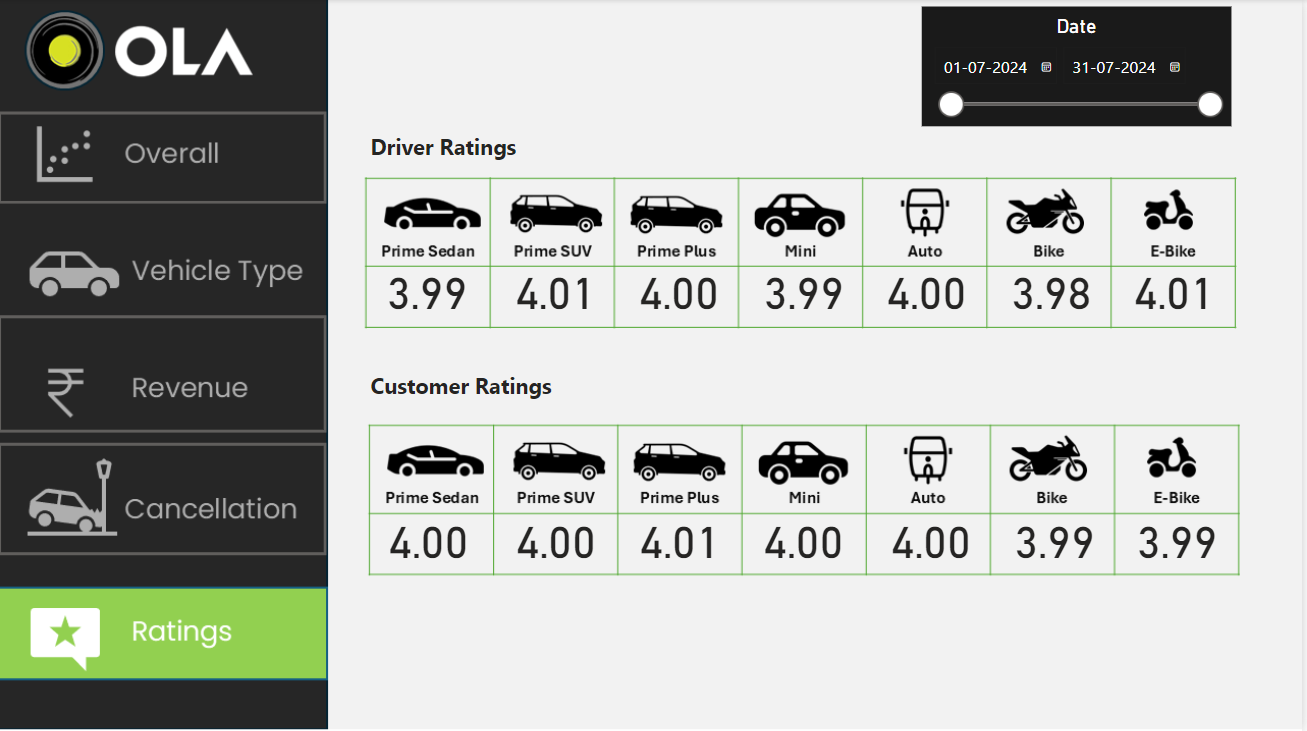

This screenshot's page, from the dashboard's own definition file:
{"tool":"powerbi","page":{"name":"Ratings","canvas":[1280,720],"ordinal":4},"visuals":[{"type":"actionButton","box":[0,213.5,322.7,115.3],"z":0},{"type":"actionButton","box":[0,310.4,322.7,115.3],"z":1000},{"type":"actionButton","box":[0,435.6,322.7,110.4],"z":2000},{"type":"actionButton","box":[0,110.4,322.7,90.8],"z":3000},{"type":"card","fields":{"Values":["Avg(July.Driver_Ratings)"]},"box":[361.2,262.5,121.2,57.5],"z":3001},{"type":"card","fields":{"Values":["Avg(July.Driver_Ratings)"]},"box":[491.2,262.5,112.5,57.5],"z":3002},{"type":"card","fields":{"Values":["Avg(July.Driver_Ratings)"]},"box":[612.5,262.5,112.5,57.5],"z":3003},{"type":"card","fields":{"Values":["Avg(July.Driver_Ratings)"]},"box":[736.2,262.5,110,57.5],"z":3004},{"type":"card","fields":{"Values":["Avg(July.Driver_Ratings)"]},"box":[855,262.5,112.5,57.5],"z":3005},{"type":"card","fields":{"Values":["Avg(July.Driver_Ratings)"]},"box":[978.8,262.5,110,57.5],"z":3006},{"type":"card","fields":{"Values":["Avg(July.Driver_Ratings)"]},"box":[1100,262.5,110,57.5],"z":3007},{"type":"textbox","box":[361.2,125,163.8,41.2],"z":3008},{"type":"textbox","box":[361.2,360,206.2,41.2],"z":3009},{"type":"card","fields":{"Values":["Avg(July.Customer_Rating)"]},"box":[362.5,506.2,121.2,57.5],"z":3010},{"type":"card","fields":{"Values":["Avg(July.Customer_Rating)"]},"box":[487.5,506.2,121.2,57.5],"z":3011},{"type":"card","fields":{"Values":["Avg(July.Customer_Rating)"]},"box":[608.8,506.2,121.2,57.5],"z":3012},{"type":"card","fields":{"Values":["Avg(July.Customer_Rating)"]},"box":[730,506.2,121.2,57.5],"z":3013},{"type":"card","fields":{"Values":["Avg(July.Customer_Rating)"]},"box":[855,506.2,121.2,57.5],"z":3014},{"type":"card","fields":{"Values":["Avg(July.Customer_Rating)"]},"box":[976.2,506.2,121.2,57.5],"z":3015},{"type":"card","fields":{"Values":["Avg(July.Customer_Rating)"]},"box":[1097.5,506.2,121.2,57.5],"z":3016},{"type":"slicer","title":"Date","fields":{"Values":["July.Date"]},"box":[906.2,7.5,303.8,117.5],"z":3017}]}

Visuals, with their boxes in screenshot pixels (x1, y1, x2, y2), scaled from the page's 1280x720 canvas onto the 1307x731 screenshot:
actionButton: 0 217 330 334
actionButton: 0 315 330 432
actionButton: 0 442 330 554
actionButton: 0 112 330 204
card - Avg(July.Driver_Ratings): 369 267 493 325
card - Avg(July.Driver_Ratings): 502 267 616 325
card - Avg(July.Driver_Ratings): 625 267 740 325
card - Avg(July.Driver_Ratings): 752 267 864 325
card - Avg(July.Driver_Ratings): 873 267 988 325
card - Avg(July.Driver_Ratings): 999 267 1112 325
card - Avg(July.Driver_Ratings): 1123 267 1236 325
textbox: 369 127 536 169
textbox: 369 366 579 407
card - Avg(July.Customer_Rating): 370 514 494 572
card - Avg(July.Customer_Rating): 498 514 622 572
card - Avg(July.Customer_Rating): 622 514 745 572
card - Avg(July.Customer_Rating): 745 514 869 572
card - Avg(July.Customer_Rating): 873 514 997 572
card - Avg(July.Customer_Rating): 997 514 1121 572
card - Avg(July.Customer_Rating): 1121 514 1244 572
"Date" slicer: 925 8 1236 127
